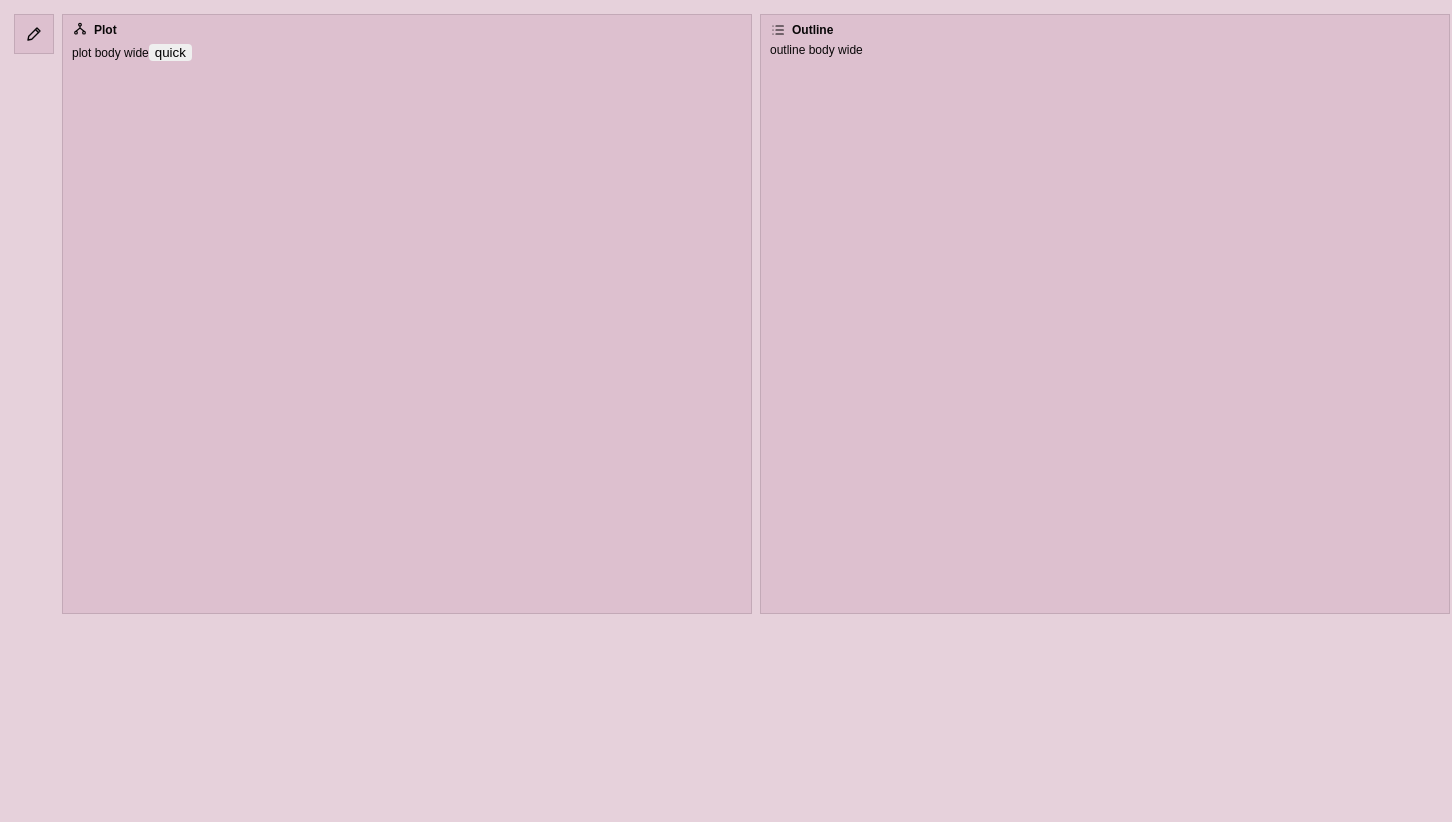
it: TileGrid › restores a rail tile to mid, with its full render, when its icon is clicked
Step 1. Click the button named "Project editor" → click(34, 34), box top-left (14, 14), bottom-right (54, 54)
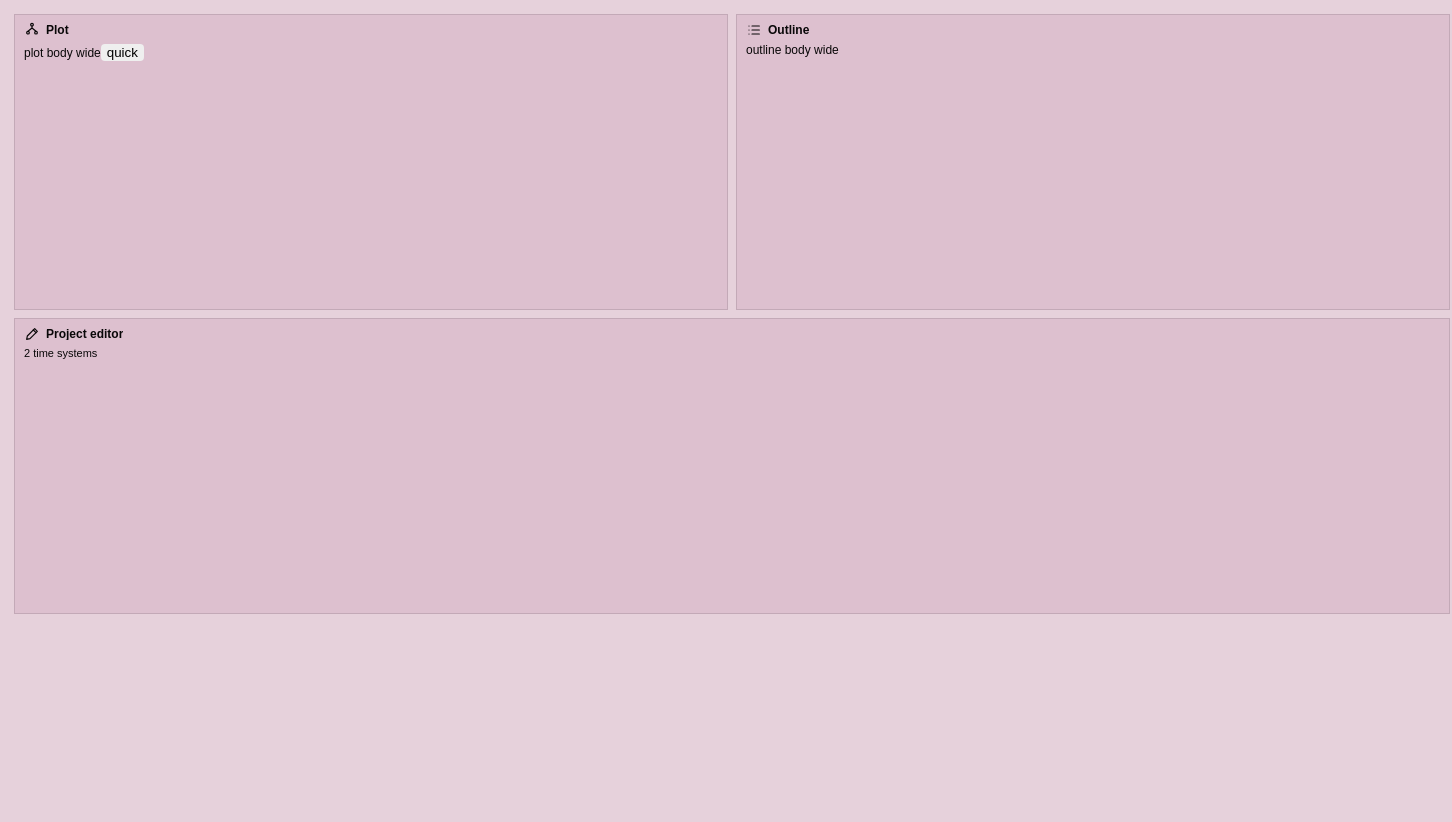
Result: the element with class "tileRail" is gone
Result: the text "2 time systems" is shown at top-left (24, 348), bottom-right (97, 359)
